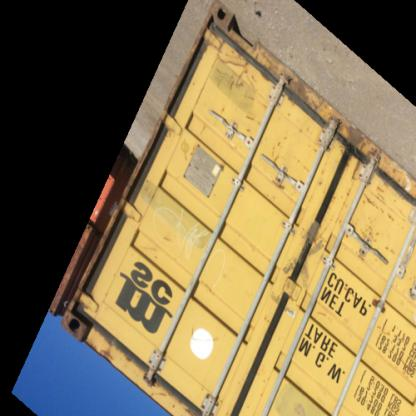Damage: (204, 14, 252, 98), (362, 160, 414, 230), (283, 74, 323, 122), (79, 327, 119, 369), (142, 380, 182, 412), (182, 330, 226, 350), (340, 128, 368, 156), (141, 180, 162, 212), (288, 209, 306, 245), (290, 153, 314, 179), (336, 282, 360, 306), (242, 112, 264, 138), (138, 242, 162, 264), (267, 140, 285, 168), (195, 276, 216, 300), (342, 188, 358, 216), (359, 228, 380, 247), (315, 163, 328, 193), (271, 179, 287, 197), (259, 314, 275, 330), (380, 248, 398, 260), (314, 311, 332, 322), (298, 128, 314, 140), (161, 236, 175, 248)
